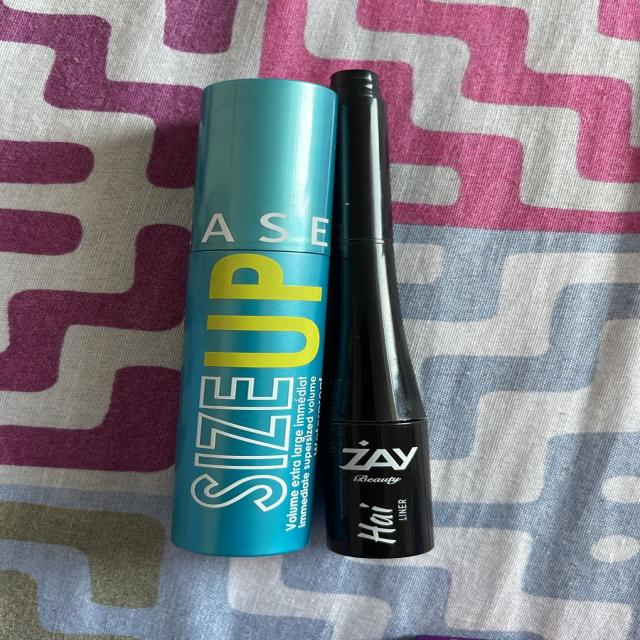eye liner: (332, 56, 436, 559)
mascara: (175, 60, 316, 555)
